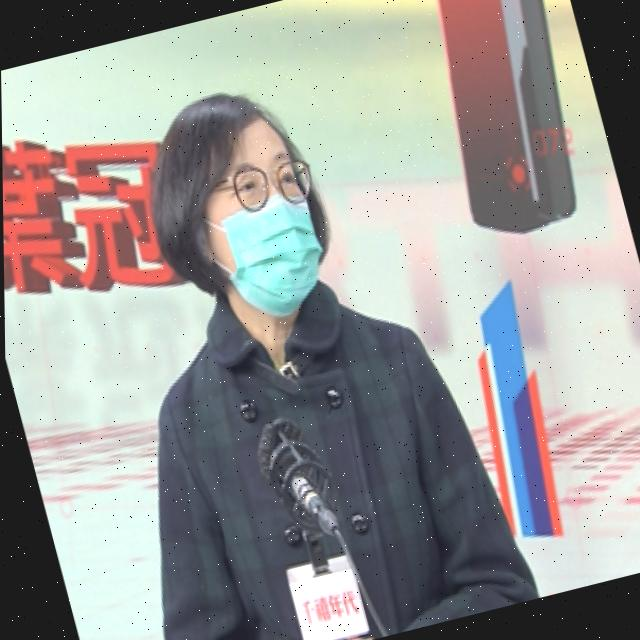Mask: (179, 160, 336, 337)
